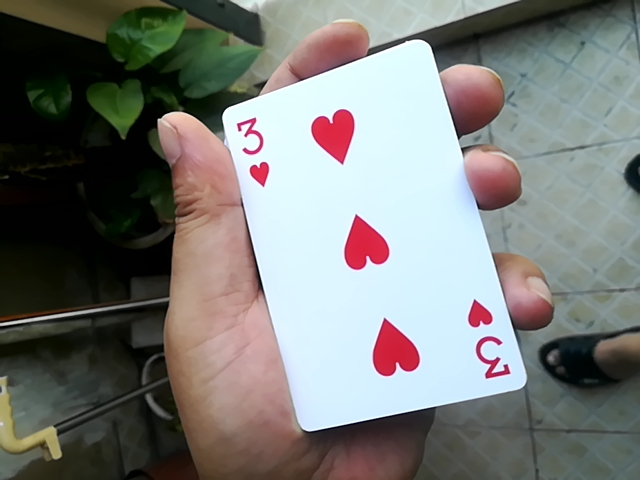hx 3: (215, 50, 514, 439)
